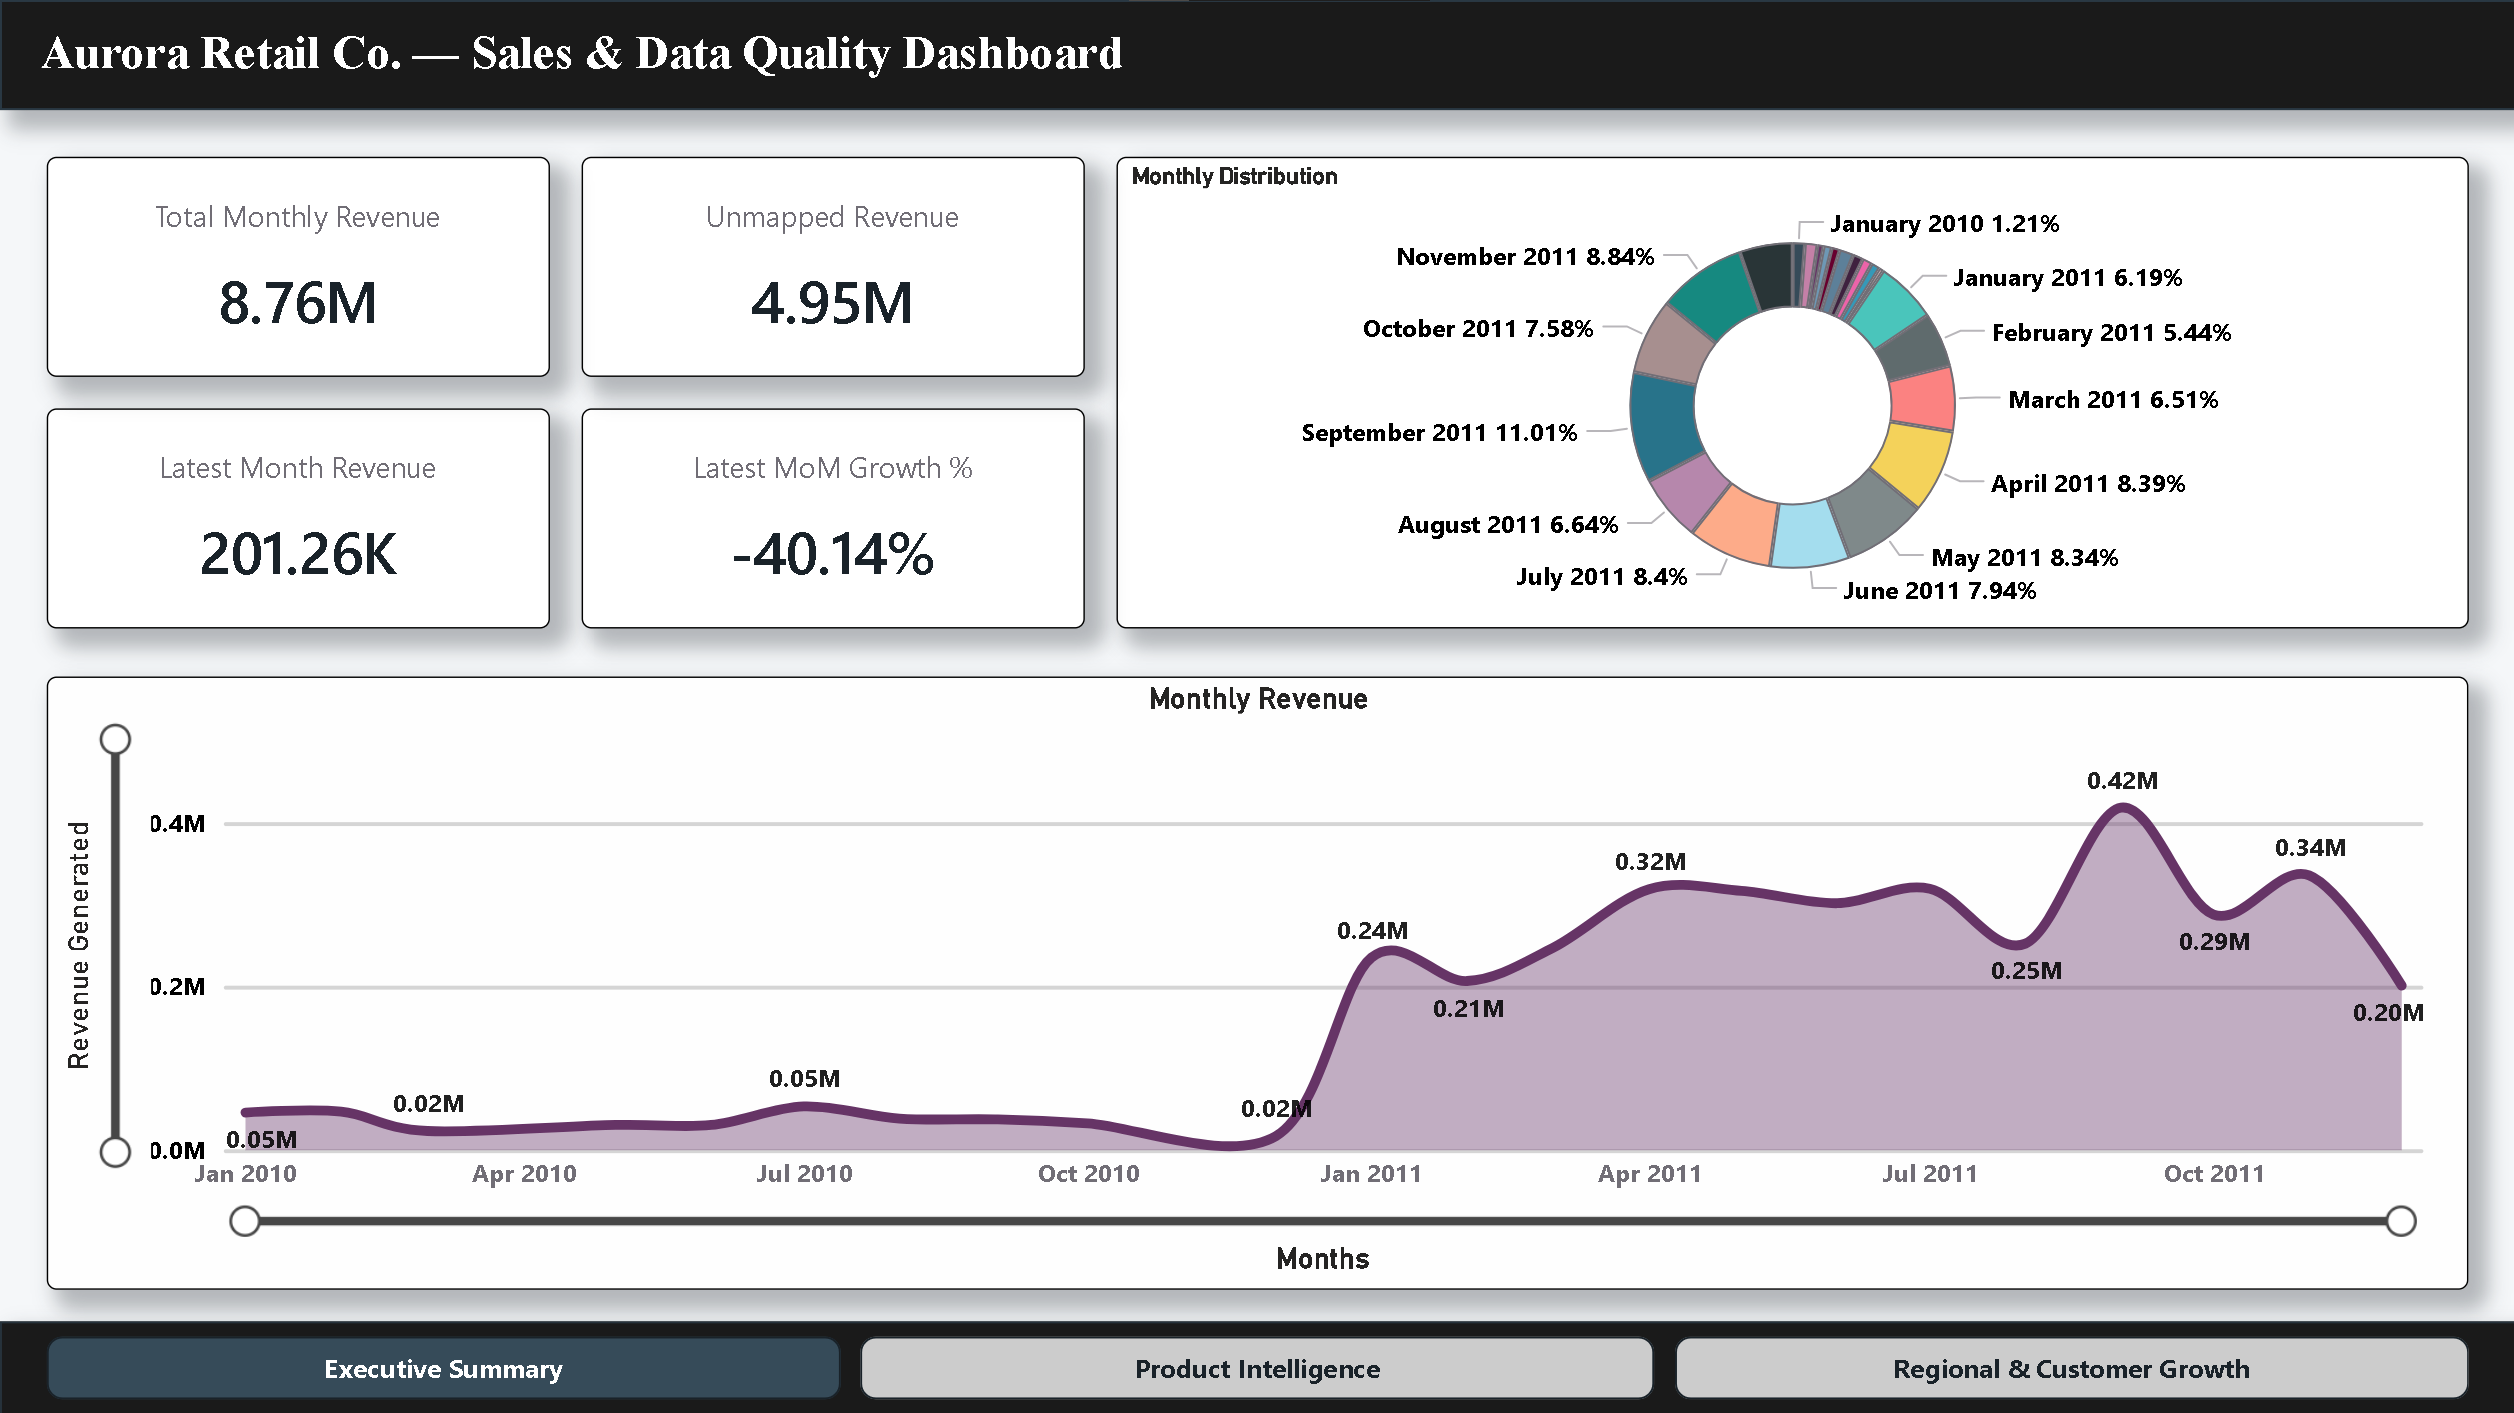

This screenshot's page, from the dashboard's own definition file:
{"tool":"powerbi","page":{"name":"Executive Summary","canvas":[1280,720],"ordinal":0},"visuals":[{"type":"shape","box":[0,672,1280,48],"z":0,"group":"g1"},{"type":"shape","box":[0,0,1280,56],"z":1000,"group":"g1"},{"type":"lineChart","title":"Monthly Revenue","fields":{"Category":["vw_monthly_revenue.year_month_date"],"Y":["Sum(vw_monthly_revenue.monthly_revenue)"]},"box":[24,344,1232,312],"z":1000},{"type":"textbox","box":[16,8,680,48],"z":2000,"group":"g1"},{"type":"donutChart","title":"Monthly Distribution","fields":{"Category":["vw_monthly_revenue.year_month_date"],"Y":["Sum(vw_monthly_revenue.monthly_revenue)"]},"box":[568,80,688,240],"z":2000},{"type":"pageNavigator","box":[24,680,1232,32],"z":2500,"group":"g1"},{"type":"cardVisual","fields":{"Data":["vw_monthly_revenue.Latest Month Revenue"]},"box":[24,208,256,112],"z":5000},{"type":"cardVisual","fields":{"Data":["vw_monthly_revenue.Latest MoM Growth %"]},"box":[296,208,256,112],"z":6000},{"type":"cardVisual","fields":{"Data":["Sum(vw_monthly_revenue.monthly_revenue)"]},"box":[296,80,256,112],"z":7000},{"type":"cardVisual","fields":{"Data":["Sum(vw_monthly_revenue.monthly_revenue)"]},"box":[24,80,256,112],"z":8000},{"type":"group","id":"g1","title":"Group 1","box":[0,0,1280,720],"z":9000}]}

Visuals, with their boxes in screenshot pixels (x1, y1, x2, y2), scaled from the page's 1280x720 canvas onto the 2514x1413 screenshot:
shape: {"x1": 0, "y1": 1319, "x2": 2513, "y2": 1412}
shape: {"x1": 0, "y1": 0, "x2": 2513, "y2": 110}
"Monthly Revenue" lineChart: {"x1": 47, "y1": 675, "x2": 2467, "y2": 1287}
textbox: {"x1": 31, "y1": 16, "x2": 1367, "y2": 110}
"Monthly Distribution" donutChart: {"x1": 1116, "y1": 157, "x2": 2467, "y2": 628}
pageNavigator: {"x1": 47, "y1": 1334, "x2": 2467, "y2": 1397}
cardVisual - vw_monthly_revenue.Latest Month Revenue: {"x1": 47, "y1": 408, "x2": 550, "y2": 628}
cardVisual - vw_monthly_revenue.Latest MoM Growth %: {"x1": 581, "y1": 408, "x2": 1084, "y2": 628}
cardVisual - Sum(vw_monthly_revenue.monthly_revenue): {"x1": 581, "y1": 157, "x2": 1084, "y2": 377}
cardVisual - Sum(vw_monthly_revenue.monthly_revenue): {"x1": 47, "y1": 157, "x2": 550, "y2": 377}
"Group 1" group: {"x1": 0, "y1": 0, "x2": 2513, "y2": 1412}
